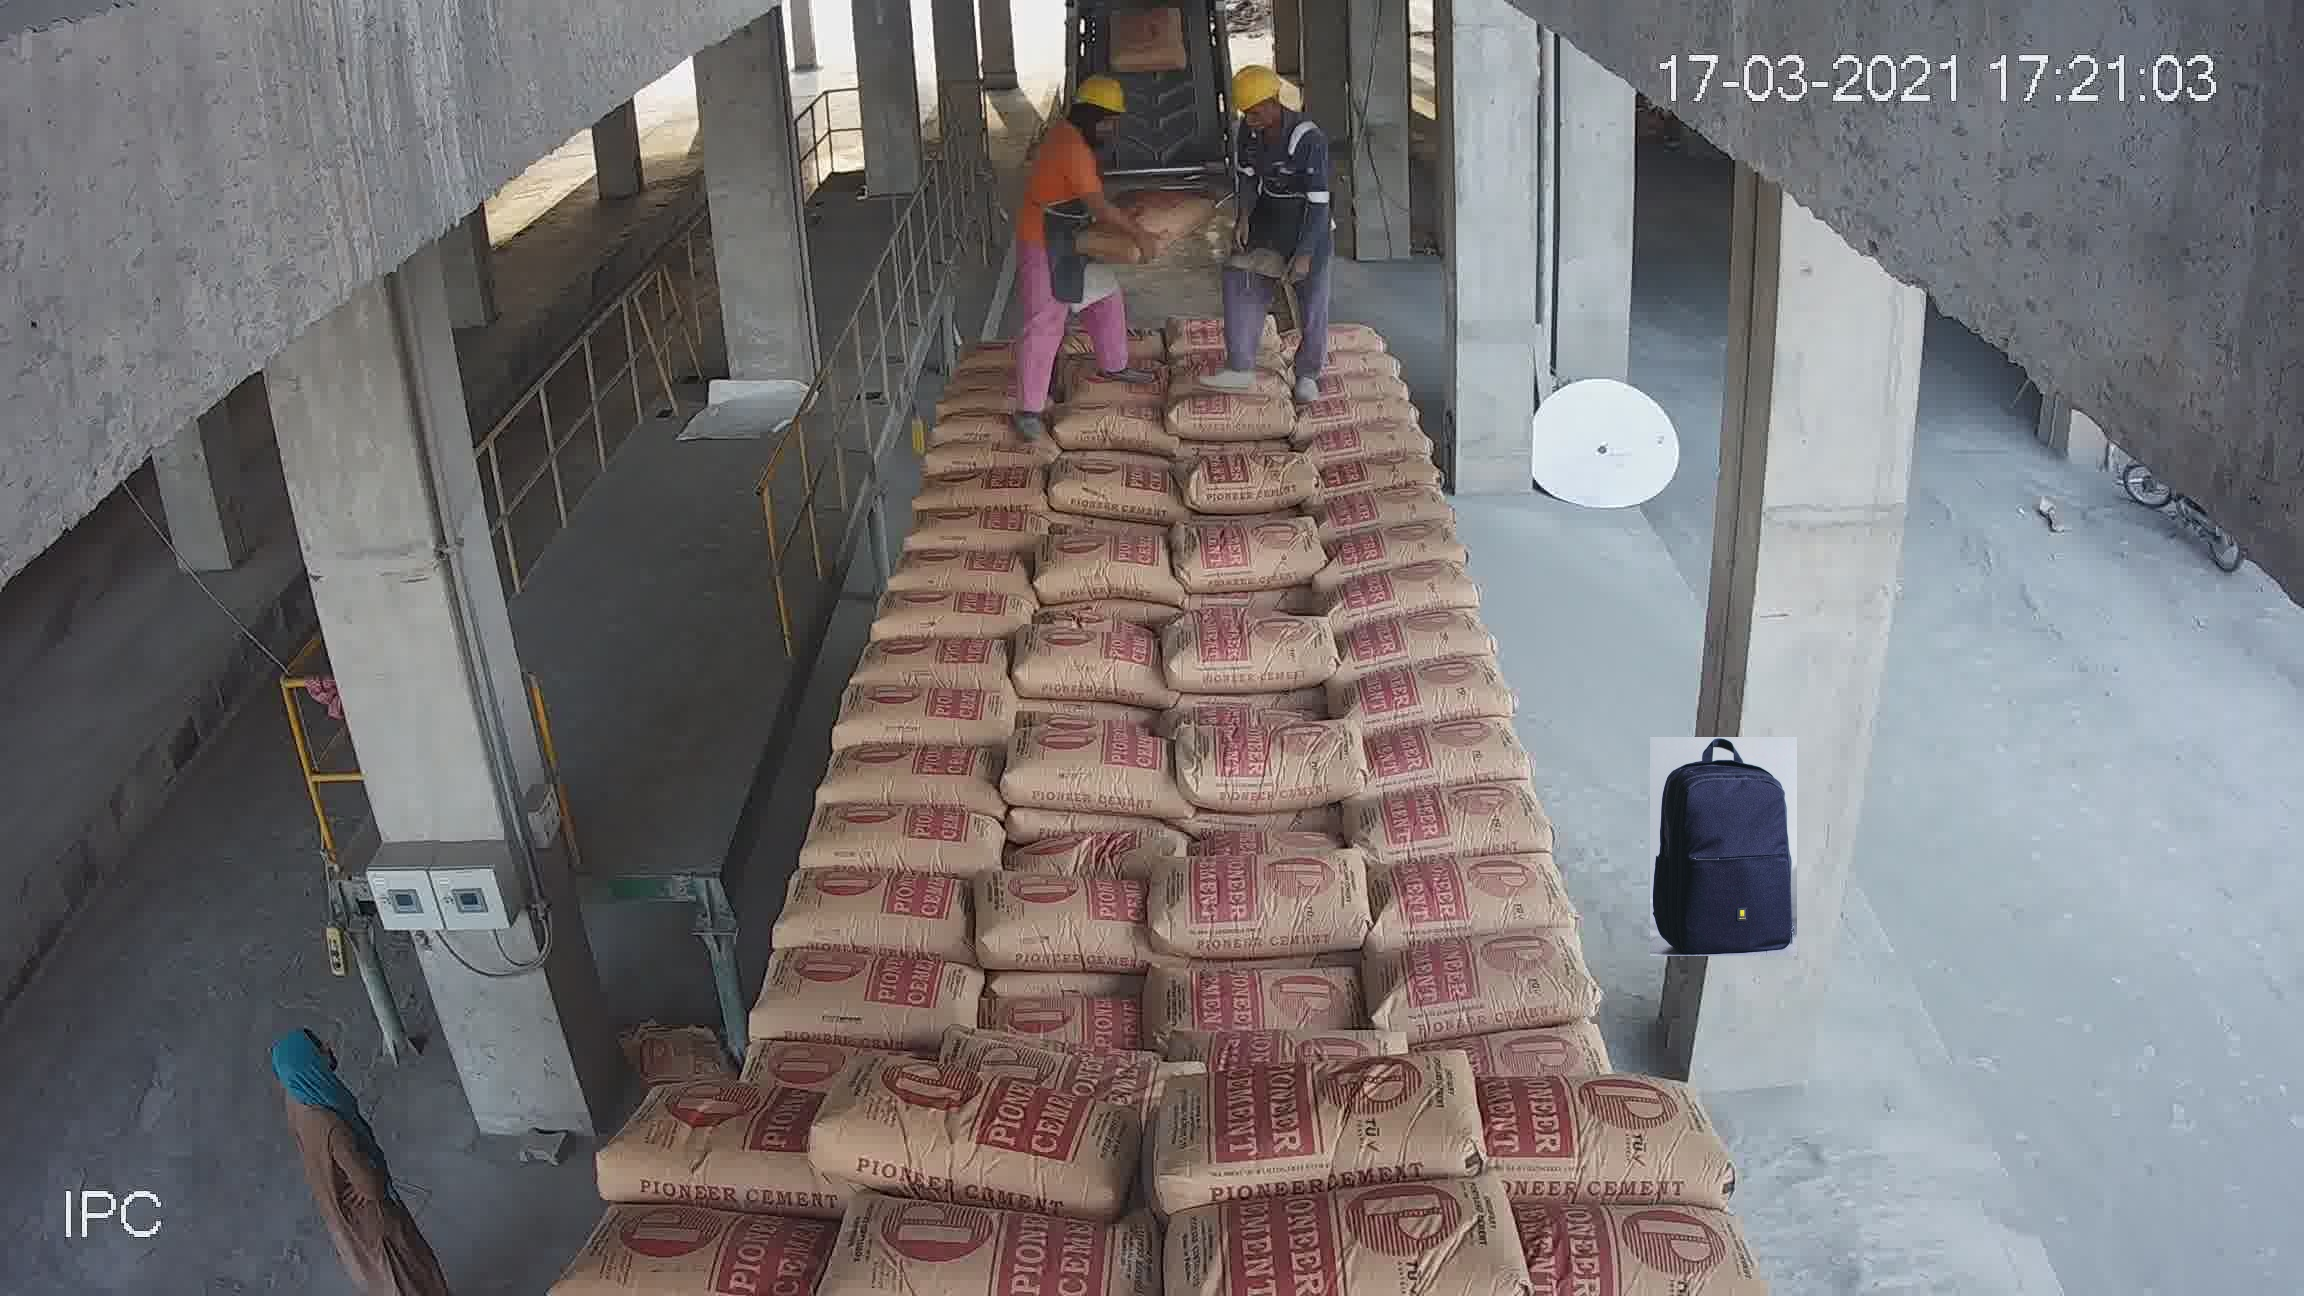bag: (1082, 112, 1203, 234)
bag_h: (1155, 1036, 1503, 1223), (1133, 932, 1472, 1092), (1128, 821, 1451, 975), (1446, 1041, 1728, 1190), (802, 1067, 1152, 1180), (1449, 937, 1700, 1090), (820, 1176, 1150, 1291), (1152, 1184, 1527, 1282), (1147, 706, 1397, 843), (1513, 1165, 1780, 1287), (590, 1076, 813, 1217), (889, 848, 1161, 954), (873, 965, 1165, 1063), (900, 744, 1165, 851), (636, 973, 858, 1100), (1412, 866, 1643, 976), (544, 1215, 831, 1296), (1393, 766, 1603, 869), (709, 771, 921, 872), (677, 881, 885, 970), (820, 676, 984, 737), (1408, 704, 1540, 775), (842, 630, 1022, 677), (856, 584, 1021, 627), (1413, 646, 1502, 725), (878, 548, 1019, 597), (1157, 623, 1269, 680), (1173, 563, 1274, 620), (904, 497, 1000, 552), (1166, 677, 1260, 729), (918, 460, 992, 514)
belt: (1006, 9, 1301, 529)
